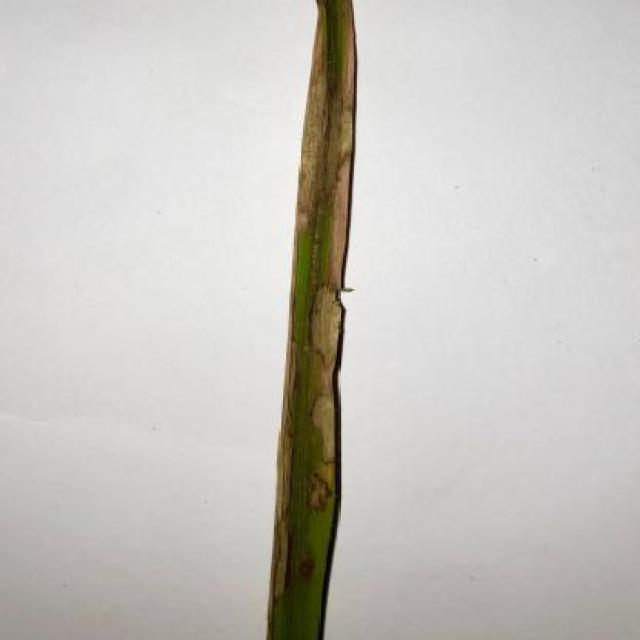Brown_Spot: (256, 0, 366, 640)
